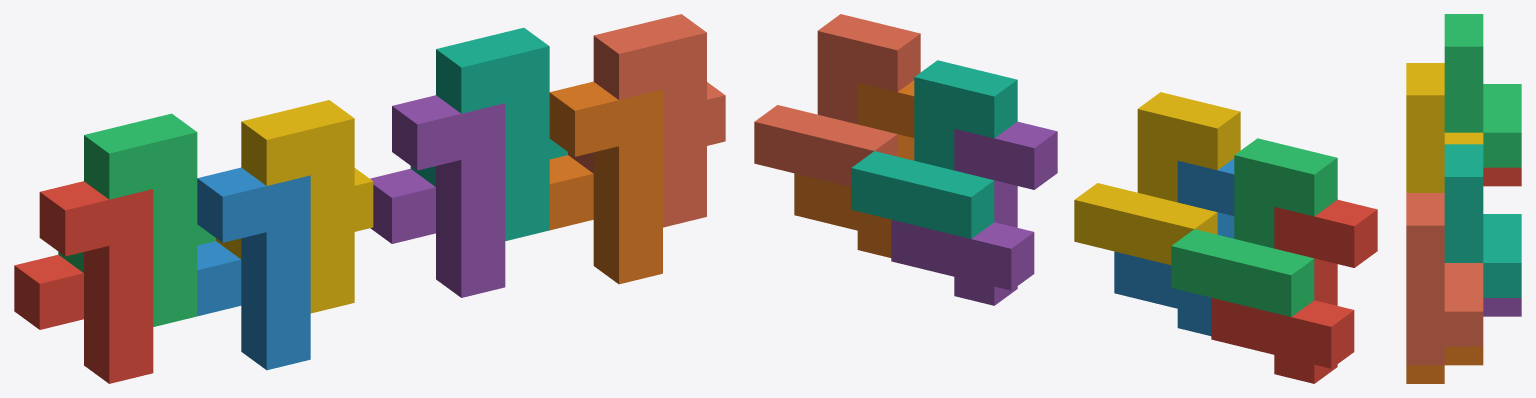
The model's file is tiling.obj.
3 views of the same model, side by side, from view 1: azimuth 30°, elevation 25°; view 2: azimuth 150°, elevation 25°; view 3: azimuth 270°, elevation 25° (orthographic). The views are drawn at different scales.
Visible parts, largest first — view 1: copy_1_domain_1, copy_1_domain_5, copy_1_domain_2, copy_1_domain_6, copy_1_domain_4, copy_1_domain_8, copy_1_domain_7, copy_1_domain_3; view 2: copy_1_domain_3, copy_1_domain_7, copy_1_domain_8, copy_1_domain_4, copy_1_domain_1, copy_1_domain_5, copy_1_domain_2, copy_1_domain_6; view 3: copy_1_domain_8, copy_1_domain_3, copy_1_domain_7, copy_1_domain_4, copy_1_domain_6, copy_1_domain_1, copy_1_domain_5.
Part boxes in pixels (x1,y1,x2,y2): copy_1_domain_1: (14,181,153,383); copy_1_domain_5: (370,95,505,297); copy_1_domain_2: (197,167,310,370); copy_1_domain_6: (549,81,662,284); copy_1_domain_4: (216,100,373,313); copy_1_domain_8: (568,14,725,227); copy_1_domain_7: (410,27,567,240); copy_1_domain_3: (58,113,215,326); copy_1_domain_3: (1171,138,1337,316); copy_1_domain_7: (851,60,1017,238); copy_1_domain_8: (754,14,920,186); copy_1_domain_4: (1074,92,1240,264); copy_1_domain_1: (1211,199,1377,383); copy_1_domain_5: (891,121,1057,305); copy_1_domain_2: (1114,158,1234,335); copy_1_domain_6: (794,80,914,257); copy_1_domain_8: (1406,193,1483,365); copy_1_domain_3: (1444,14,1521,167); copy_1_domain_7: (1444,144,1521,297); copy_1_domain_4: (1406,63,1483,192); copy_1_domain_6: (1406,346,1483,383); copy_1_domain_1: (1483,167,1521,186); copy_1_domain_5: (1483,298,1521,316).
Bounding box in the file's own units: 15 × 5 × 3.
